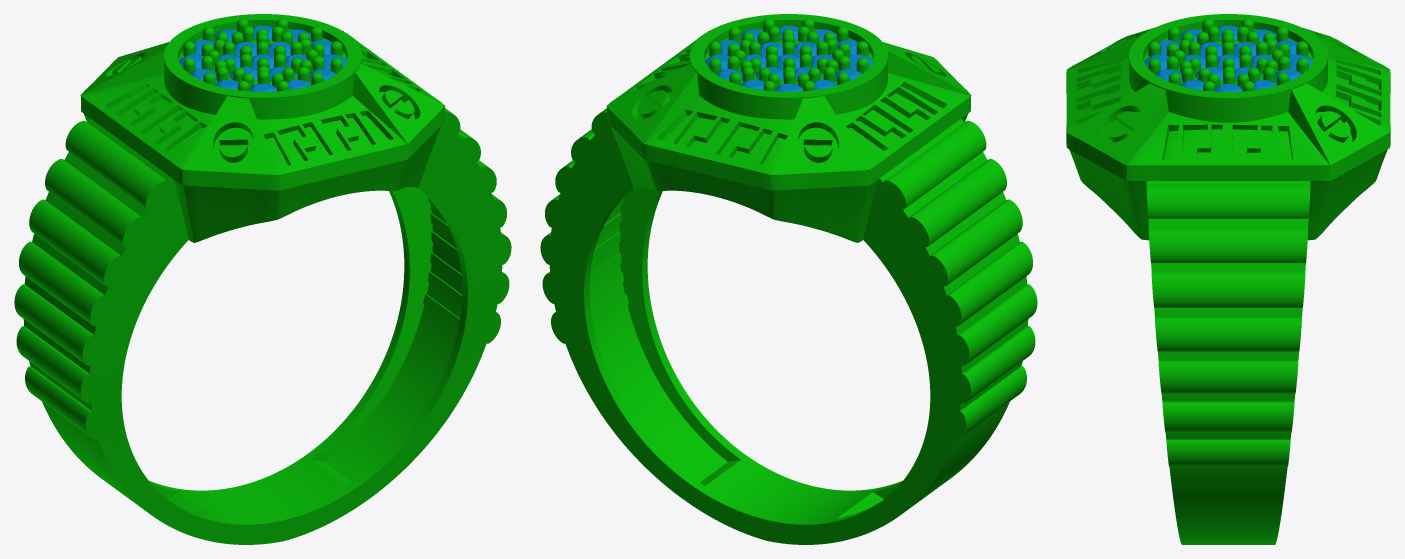
3 views of the same model, side by side, from view 1: azimuth 30°, elevation 25°; view 2: azimuth 150°, elevation 25°; view 3: azimuth 270°, elevation 25° (orthographic).
Parts seen in each view (by area): view 1: E 25.3dm; view 2: E 25.3dm; view 3: E 25.3dm.
Part boxes in pixels (x1,y1,x2,y2): E 25.3dm: (14, 14, 511, 544); E 25.3dm: (540, 14, 1037, 544); E 25.3dm: (1066, 14, 1390, 544).
Size of the model in its own units: 2.51 by 2.65 by 1.64.
